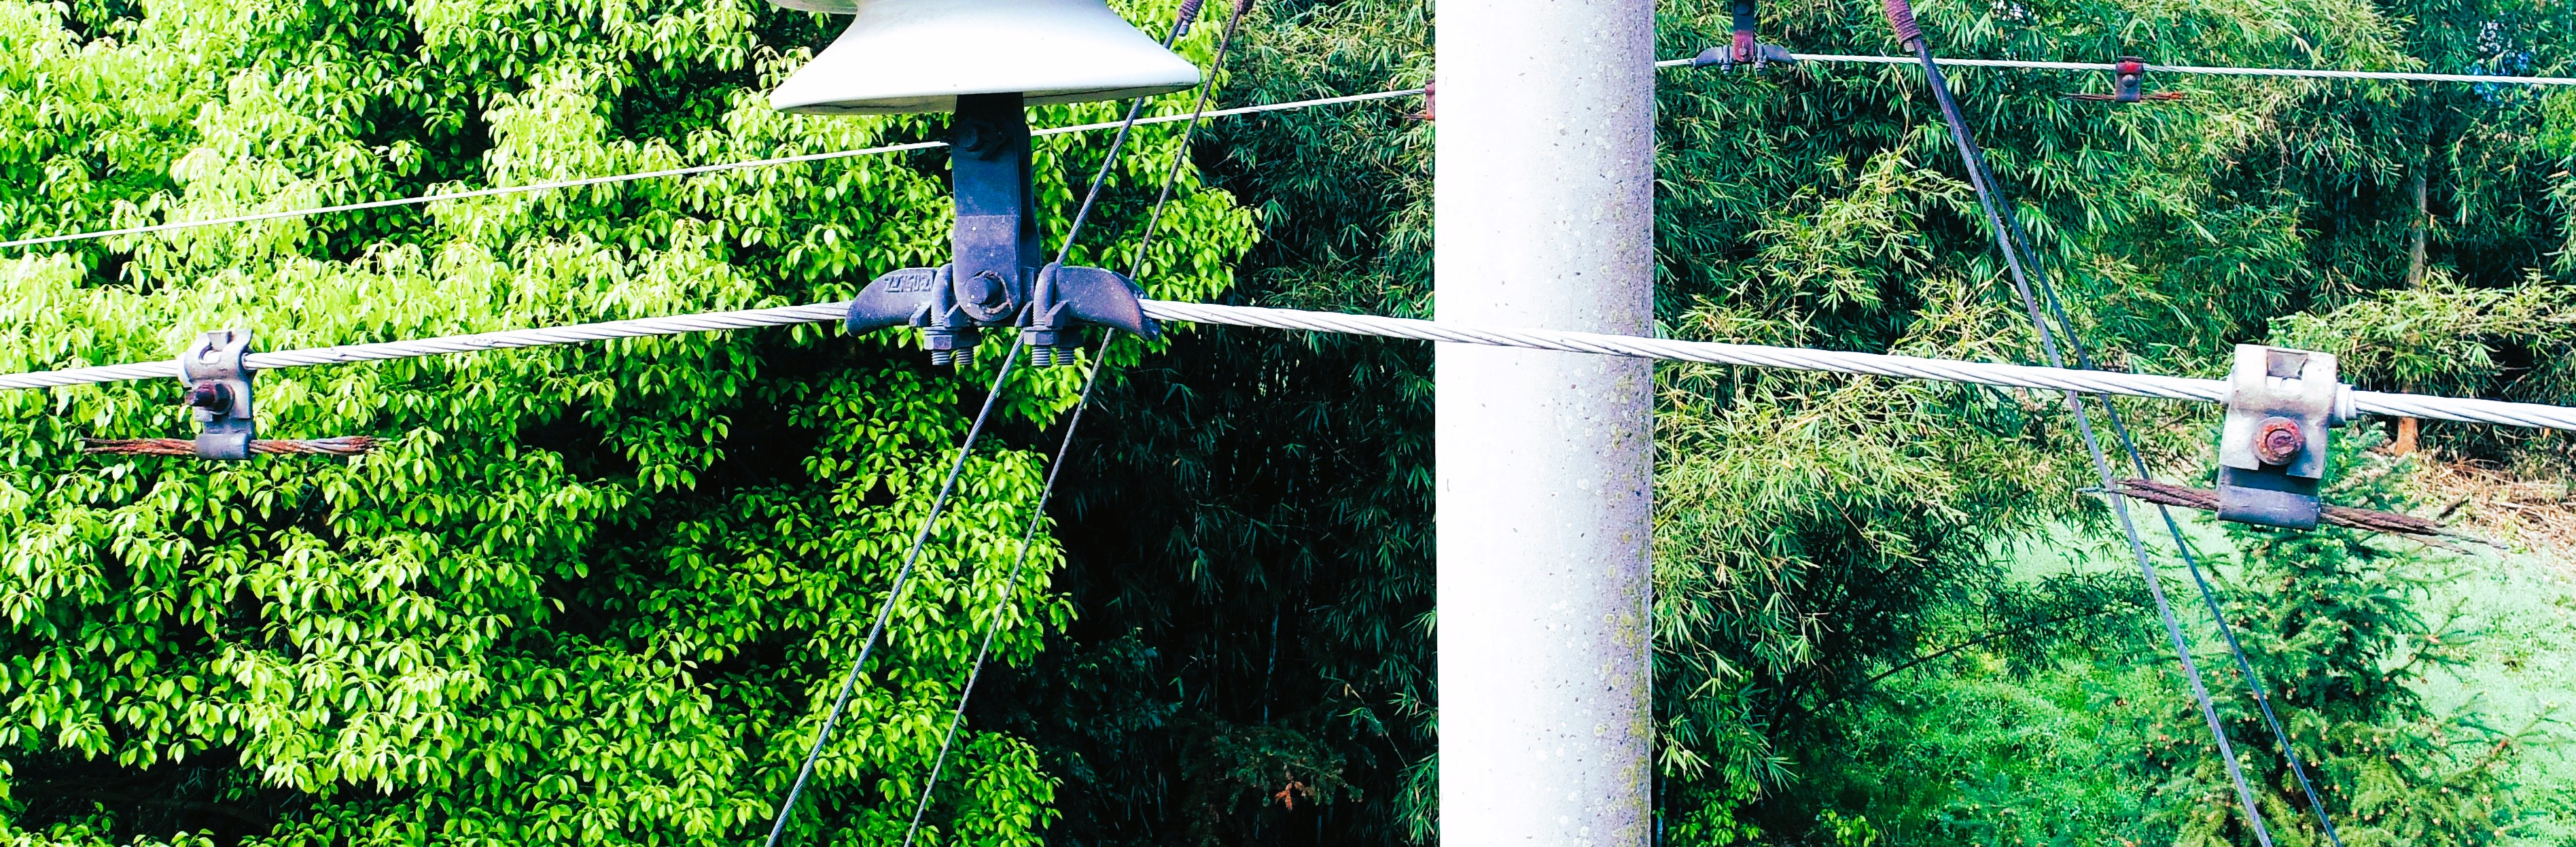Damage of shockproof hammer: (2091, 322, 2500, 595), (71, 311, 381, 495)
